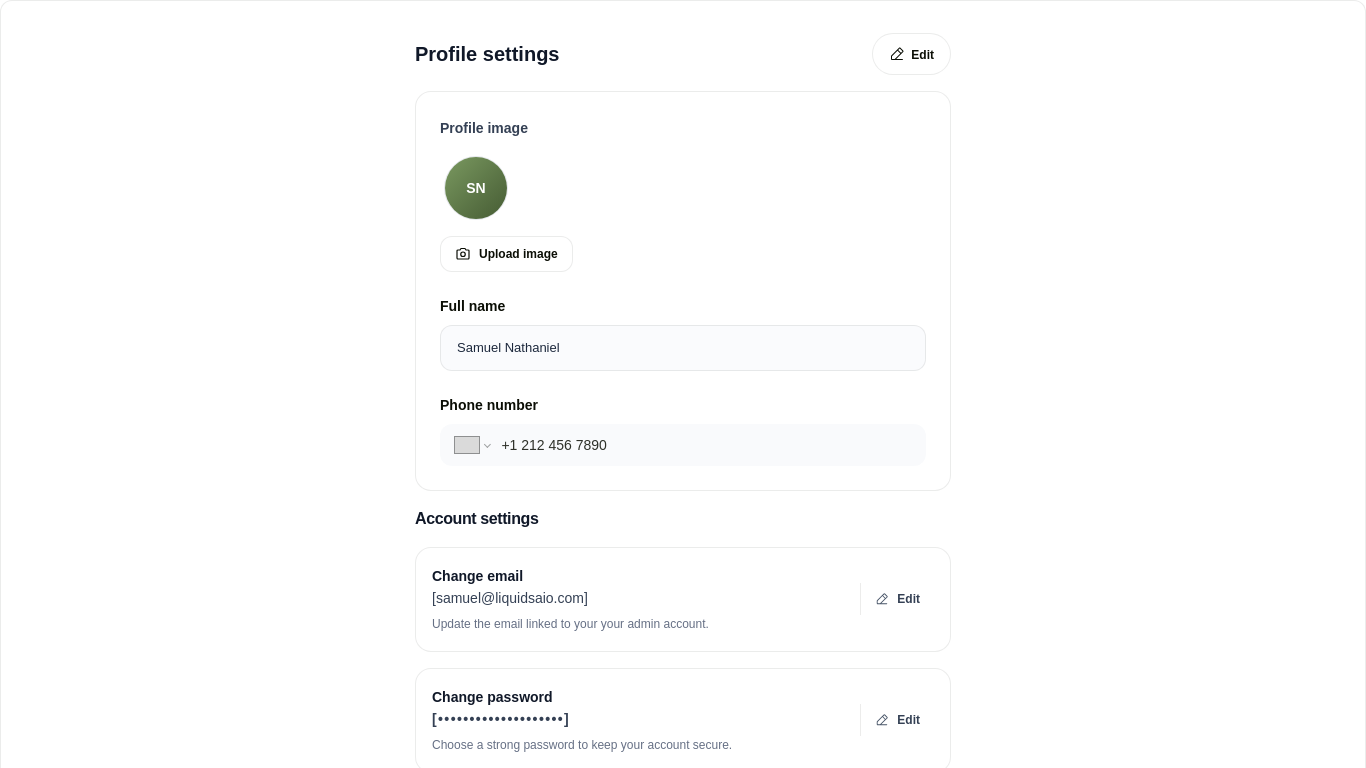
Test case: ProfileSettings › patches profile updates when the form is dirty and valid
expect the field showing "Samuel Nathaniel" is shown: met, box [441,326,925,370]
Click the button with aria-label "Edit profile settings" at (912, 54), box [872,33,951,75]
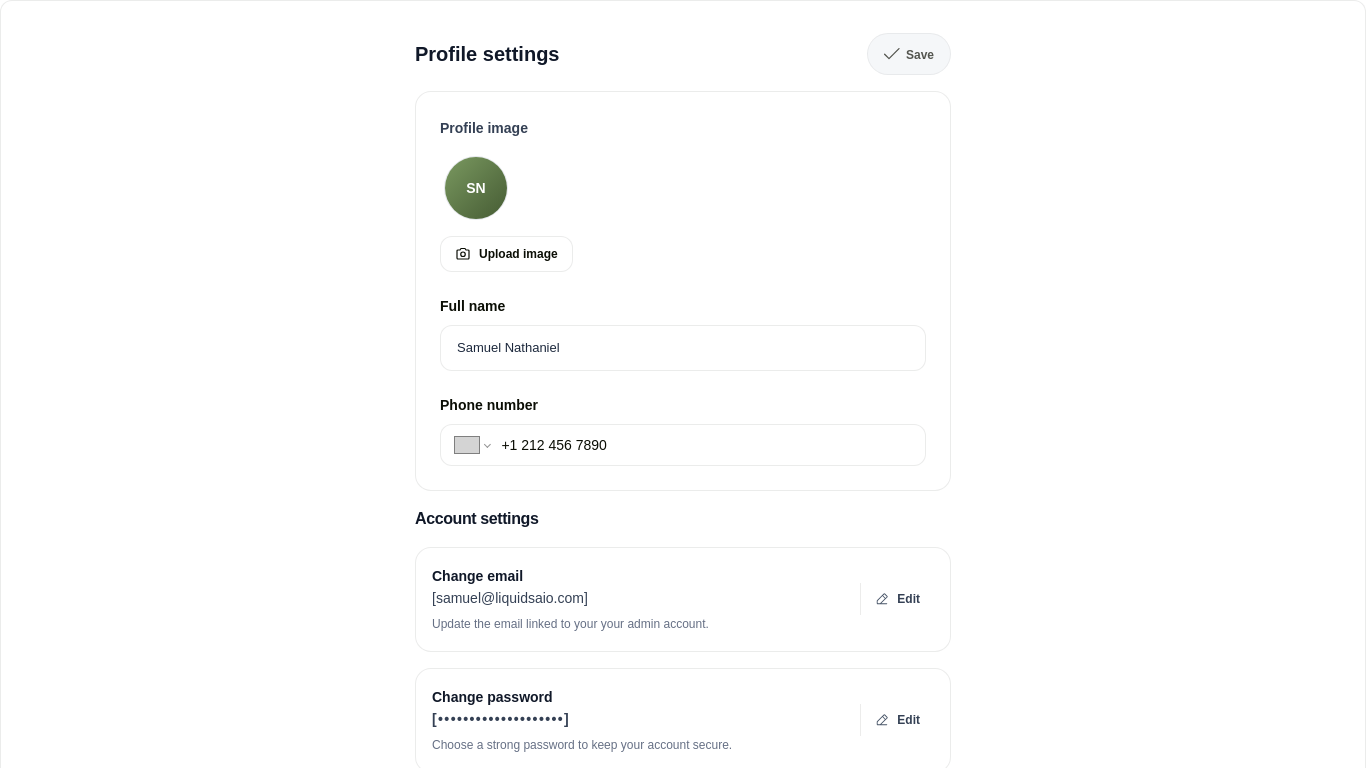
Replace the text in the field named "Full name" with "Jude Nnamdi" at (683, 348), box [441,326,925,370]
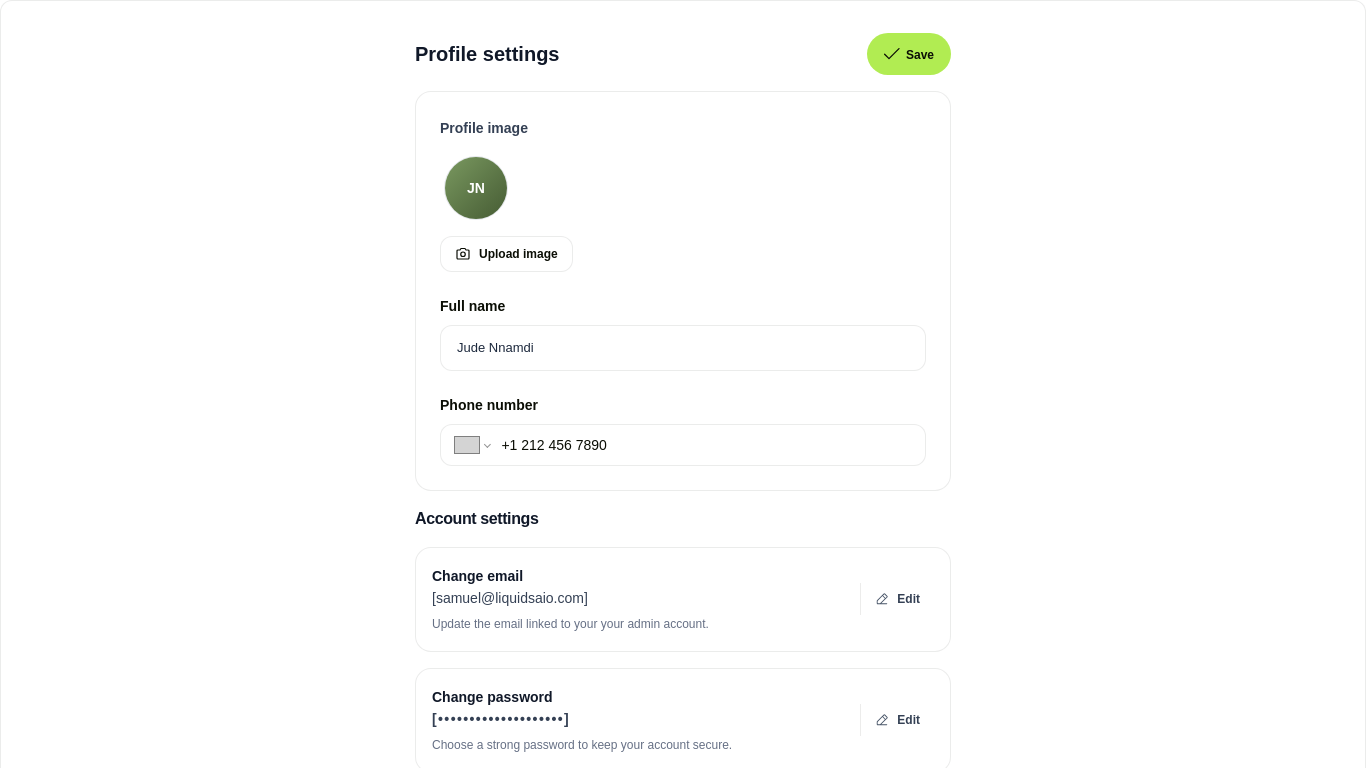
Replace the text in the field named "phone number" with "+18005550100" at (706, 444), box [501,434,911,454]
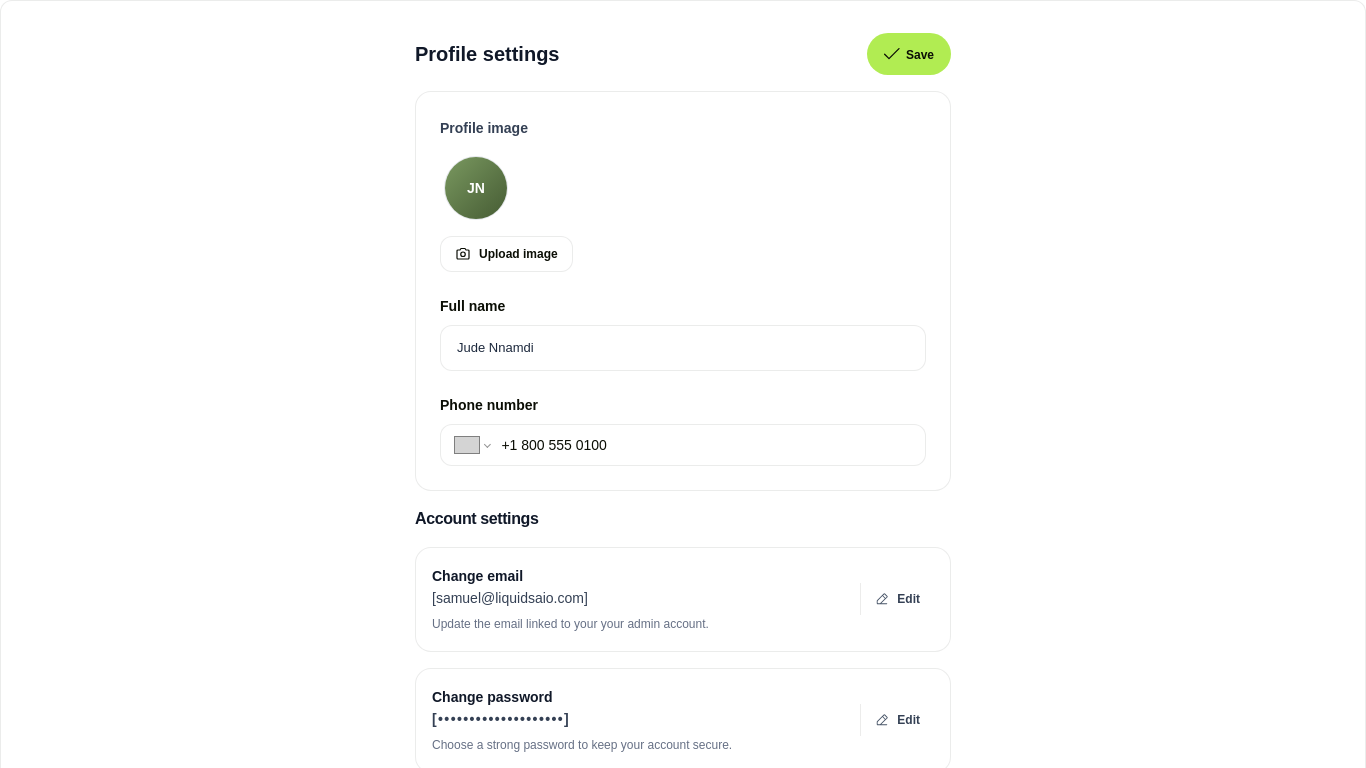
Click the button with aria-label "Save profile settings" at (909, 54), box [867,33,951,75]
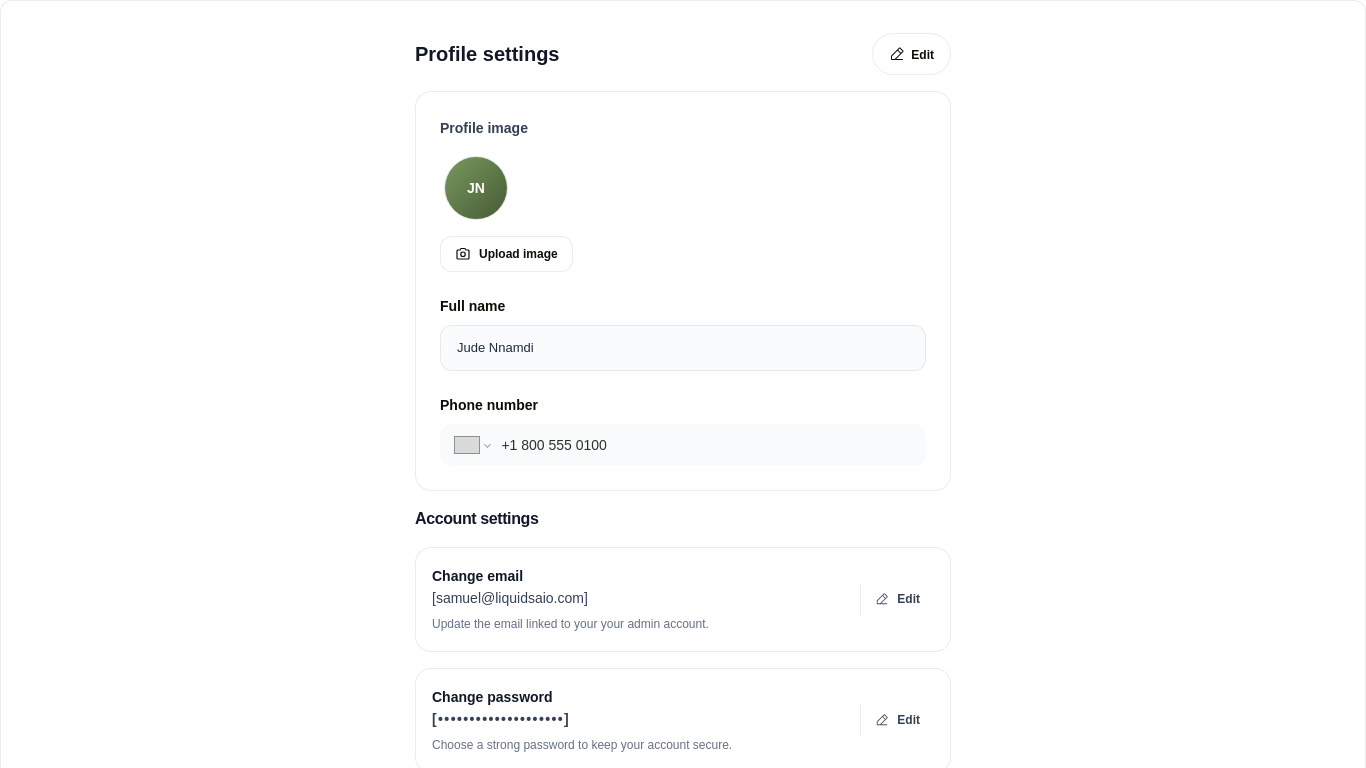
expect the button with aria-label "Edit profile settings" is shown: met, box [872,33,951,75]
